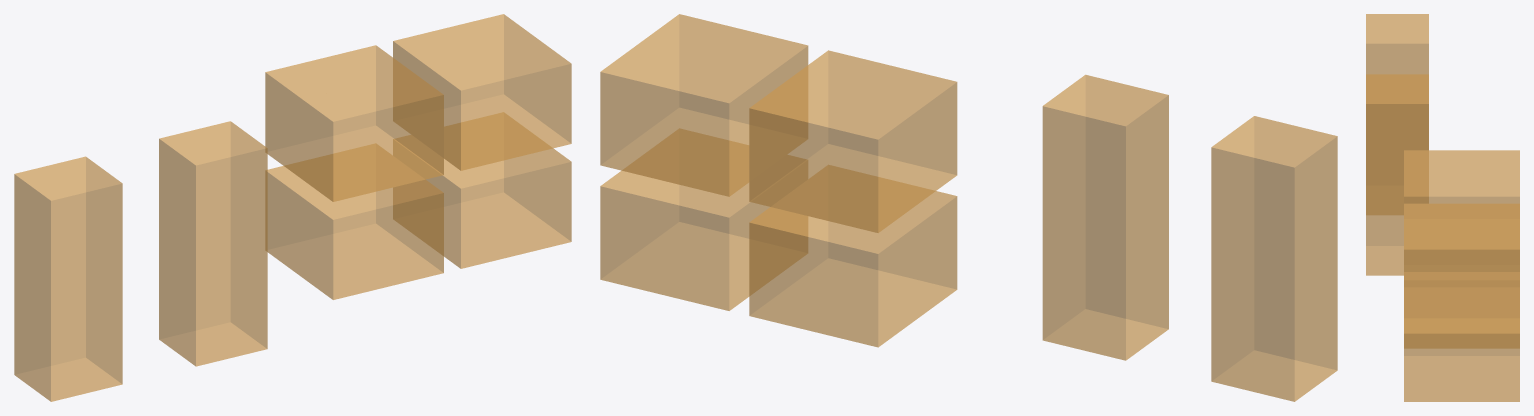
The model's file is cots_reservations_R01.glb.
3 views of the same model, side by side, from view 1: azimuth 30°, elevation 25°; view 2: azimuth 150°, elevation 25°; view 3: azimuth 270°, elevation 25° (orthographic). The views are drawn at different scales.
Visible parts, largest first — view 1: DIMENSION_ONLY_UR_OEM_DC_controller_1, DIMENSION_ONLY_UR_OEM_DC_controller_2, DIMENSION_ONLY_RELiON_InSight_48V_battery_2, DIMENSION_ONLY_RELiON_InSight_48V_battery_4, DIMENSION_ONLY_RELiON_InSight_48V_battery_1, DIMENSION_ONLY_RELiON_InSight_48V_battery_3; view 2: DIMENSION_ONLY_UR_OEM_DC_controller_2, DIMENSION_ONLY_UR_OEM_DC_controller_1, DIMENSION_ONLY_RELiON_InSight_48V_battery_2, DIMENSION_ONLY_RELiON_InSight_48V_battery_1, DIMENSION_ONLY_RELiON_InSight_48V_battery_4, DIMENSION_ONLY_RELiON_InSight_48V_battery_3; view 3: DIMENSION_ONLY_RELiON_InSight_48V_battery_4, DIMENSION_ONLY_RELiON_InSight_48V_battery_2, DIMENSION_ONLY_RELiON_InSight_48V_battery_3, DIMENSION_ONLY_UR_OEM_DC_controller_1, DIMENSION_ONLY_UR_OEM_DC_controller_2, DIMENSION_ONLY_RELiON_InSight_48V_battery_1.
Part boxes in pixels (x1,y1,x2,y2): DIMENSION_ONLY_UR_OEM_DC_controller_1: [14, 156, 122, 401]; DIMENSION_ONLY_UR_OEM_DC_controller_2: [159, 121, 267, 366]; DIMENSION_ONLY_RELiON_InSight_48V_battery_2: [265, 45, 443, 201]; DIMENSION_ONLY_RELiON_InSight_48V_battery_4: [393, 14, 571, 170]; DIMENSION_ONLY_RELiON_InSight_48V_battery_1: [266, 144, 443, 299]; DIMENSION_ONLY_RELiON_InSight_48V_battery_3: [393, 112, 571, 268]; DIMENSION_ONLY_UR_OEM_DC_controller_2: [1042, 74, 1168, 360]; DIMENSION_ONLY_UR_OEM_DC_controller_1: [1211, 116, 1337, 401]; DIMENSION_ONLY_RELiON_InSight_48V_battery_2: [749, 50, 957, 232]; DIMENSION_ONLY_RELiON_InSight_48V_battery_1: [749, 165, 957, 347]; DIMENSION_ONLY_RELiON_InSight_48V_battery_4: [600, 14, 808, 196]; DIMENSION_ONLY_RELiON_InSight_48V_battery_3: [600, 129, 807, 310]; DIMENSION_ONLY_RELiON_InSight_48V_battery_4: [1404, 203, 1519, 318]; DIMENSION_ONLY_RELiON_InSight_48V_battery_2: [1404, 150, 1519, 264]; DIMENSION_ONLY_RELiON_InSight_48V_battery_3: [1404, 288, 1519, 401]; DIMENSION_ONLY_UR_OEM_DC_controller_1: [1366, 14, 1428, 214]; DIMENSION_ONLY_UR_OEM_DC_controller_2: [1366, 74, 1428, 275]; DIMENSION_ONLY_RELiON_InSight_48V_battery_1: [1404, 265, 1519, 347].
Bounding box in the file's own units: 1.27 × 0.451 × 0.366.
